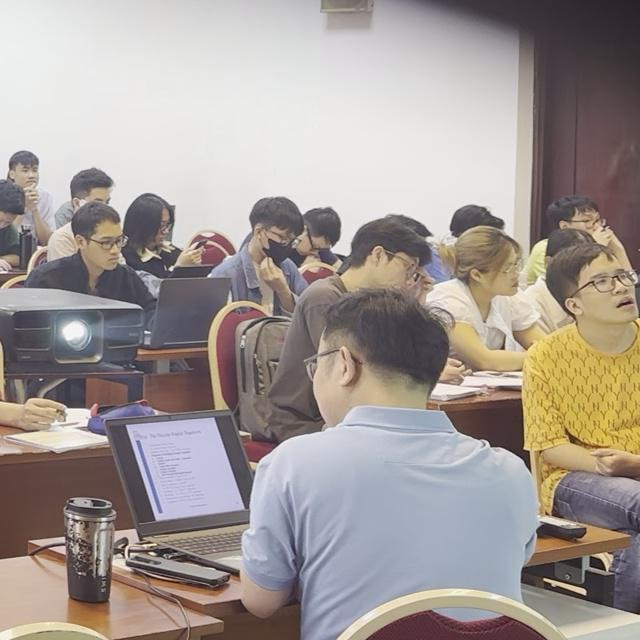Looking away: (374, 256, 417, 292), (495, 256, 524, 296), (92, 226, 121, 266), (297, 233, 331, 255)
Looking forward: (591, 262, 634, 317), (19, 163, 36, 188)
Phone use: (122, 193, 208, 265)
